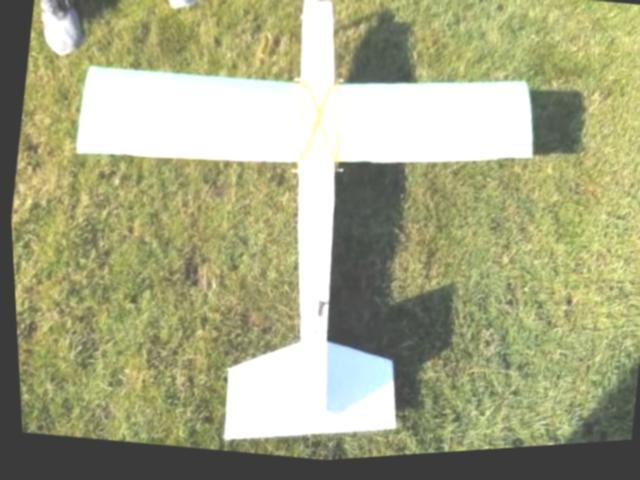uav: (22, 0, 565, 479)
